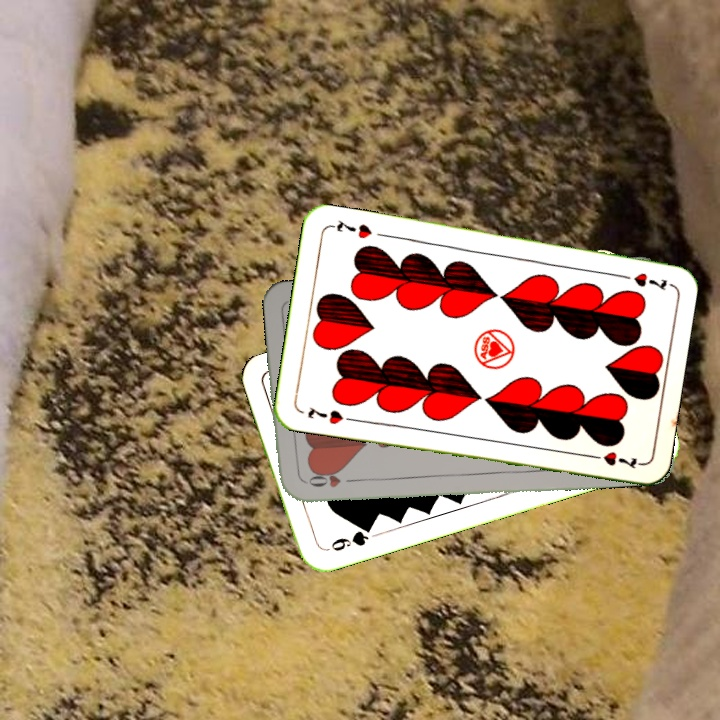G9: (327, 522, 375, 554)
H7: (613, 268, 669, 292), (304, 403, 357, 427)
HO: (300, 471, 359, 490)
